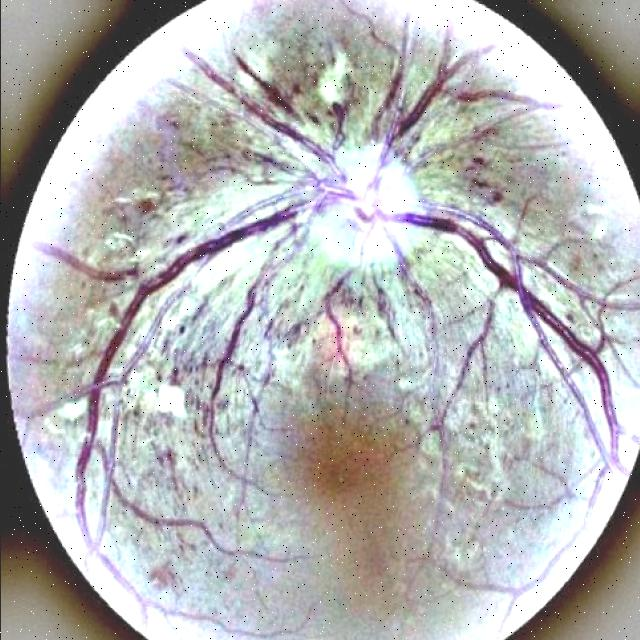Macula: (301, 430, 386, 510)
Nerves: (97, 187, 316, 376), (433, 203, 587, 372), (393, 50, 460, 128)
Optic Disk: (309, 136, 417, 271)
